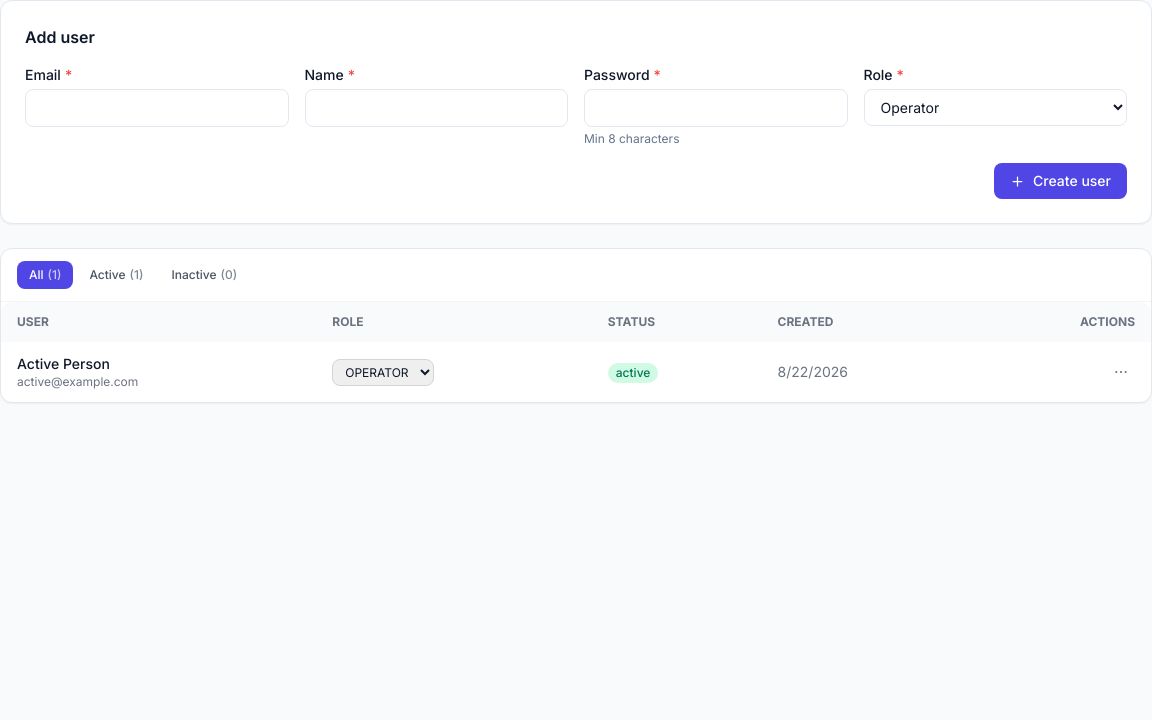
it: UsersPanel — activation UX (TKT-052) › still offers Disable for an active user (no regression)
Click the button named "Actions for Active Person".
click(1121, 372)  # box [1107, 358, 1135, 386]
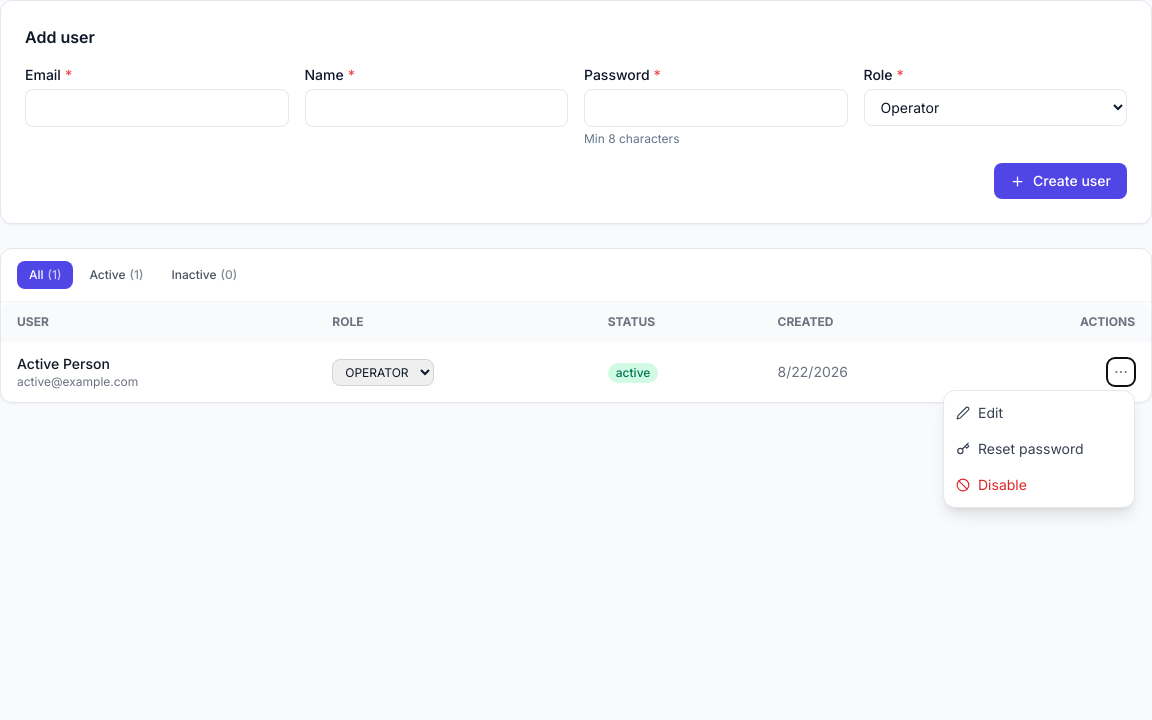
Expected: the button "Disable" is shown, [944, 467, 1134, 503]
